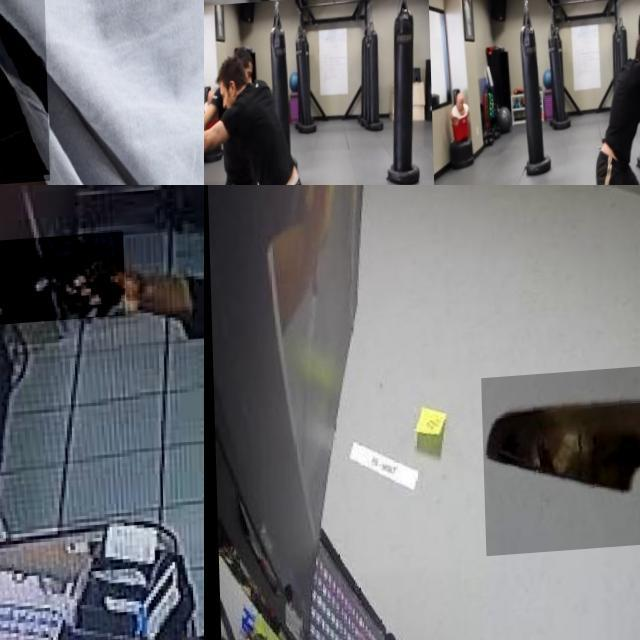-: (478, 369, 640, 560), (545, 0, 584, 19), (232, 0, 270, 19), (204, 139, 214, 185)
gun-knife-thesis - v11 Yolov5 augmented: (0, 0, 126, 185), (0, 234, 124, 328)
